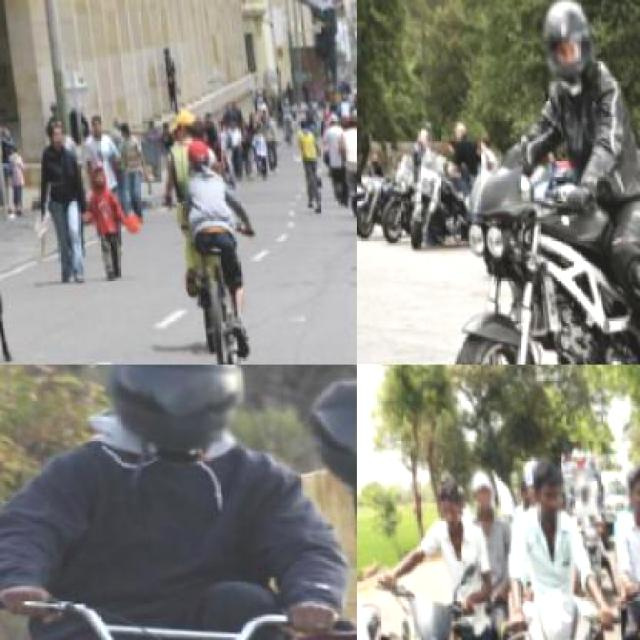With Helmet: (98, 364, 254, 454), (303, 366, 355, 497), (534, 0, 597, 95), (176, 132, 210, 172)
Without Helmet: (427, 468, 468, 538), (526, 452, 563, 522), (462, 458, 495, 516), (614, 455, 638, 523), (569, 466, 596, 514)
